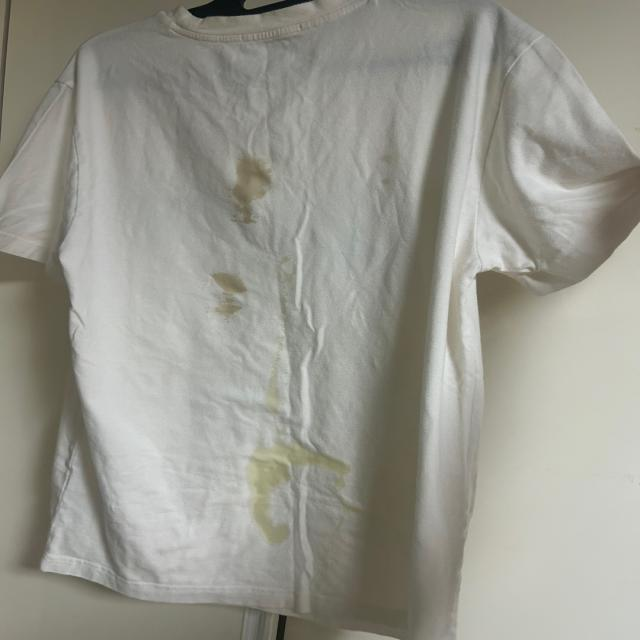stain: (246, 442, 356, 482), (231, 152, 276, 229), (245, 479, 295, 546), (203, 272, 251, 326), (263, 355, 285, 407), (270, 254, 305, 286), (377, 154, 404, 186)
